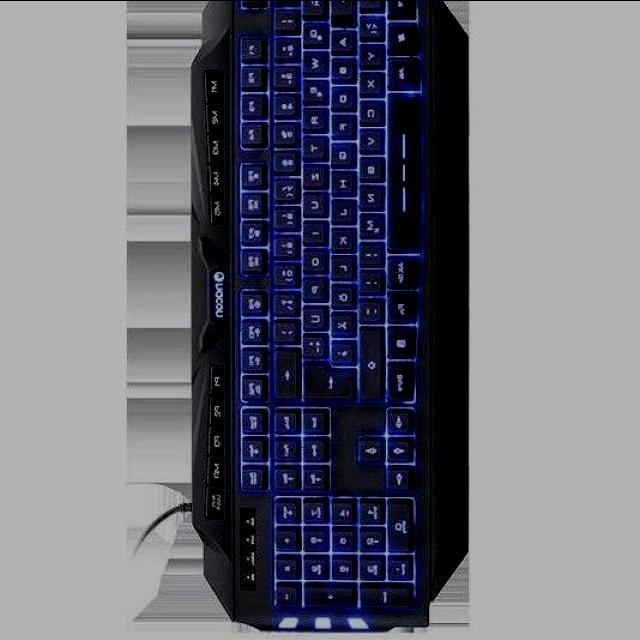keyboard: (176, 0, 477, 639)
